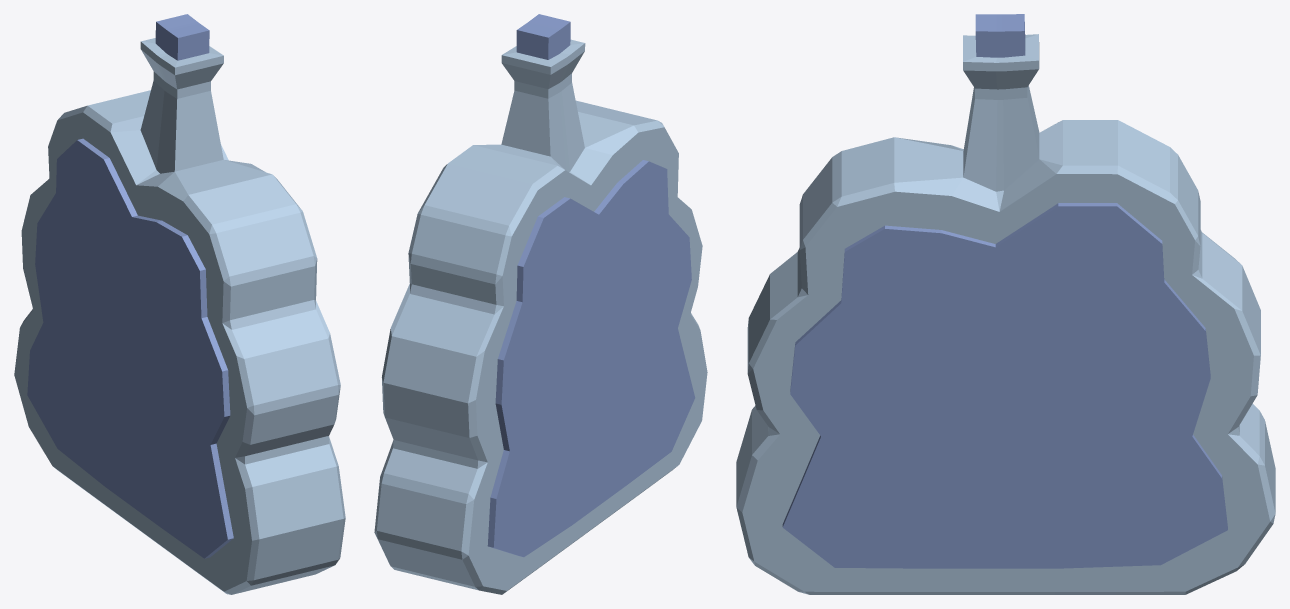
Rendered from steamPotion.fbx.
The picture shows the model from 3 angles, left to right: view 1: azimuth 30°, elevation 25°; view 2: azimuth 150°, elevation 25°; view 3: azimuth 270°, elevation 25°; orthographic projection. The views are drawn at different scales.
Visible parts, largest first — view 1: steam potion; view 2: steam potion; view 3: steam potion.
Boxes of the visible parts, left/top/right/bottom form: steam potion: left=14, top=14, right=345, bottom=594; steam potion: left=374, top=14, right=707, bottom=594; steam potion: left=736, top=14, right=1275, bottom=594.
Size of the model in its own units: 56.4 by 252 by 224.
